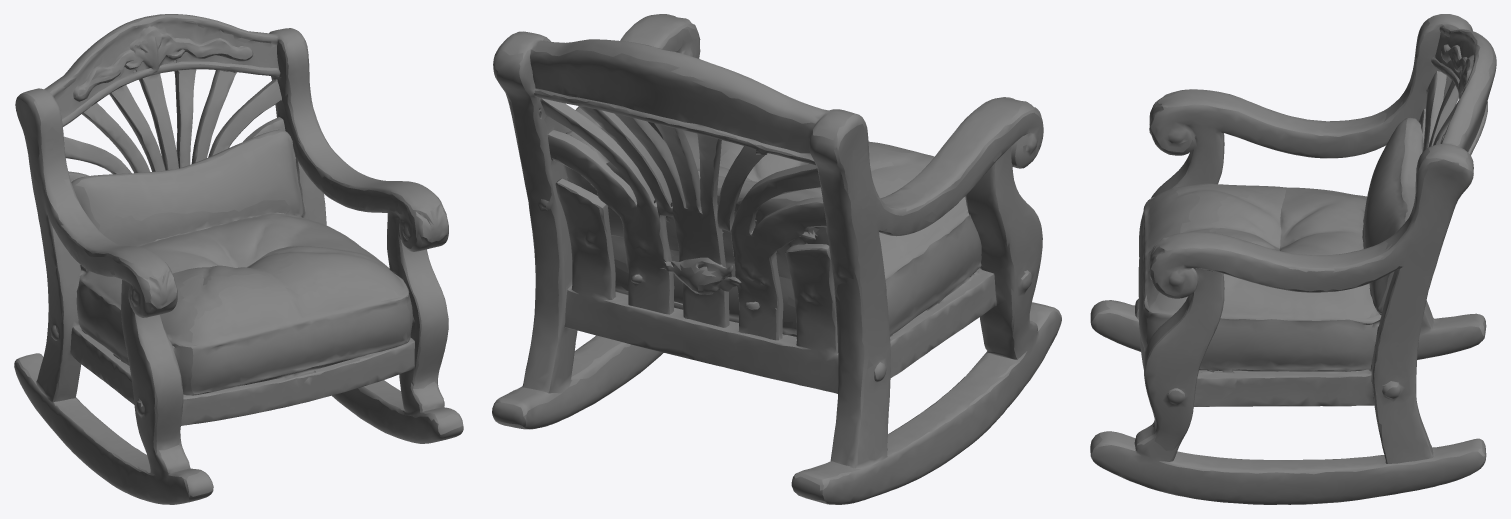
File: completion_rocker_2.glb
3 views of the same model, side by side, from view 1: azimuth 30°, elevation 25°; view 2: azimuth 150°, elevation 25°; view 3: azimuth 270°, elevation 25° (orthographic). The views are drawn at different scales.
Visible parts, largest first — view 1: geometry_0; view 2: geometry_0; view 3: geometry_0.
Part boxes in pixels (bbox=[...]): geometry_0: bbox=[14, 14, 463, 504]; geometry_0: bbox=[492, 14, 1061, 504]; geometry_0: bbox=[1090, 14, 1496, 504].
Bounding box in the file's own units: 0.9092 × 1 × 0.9573.
Materials: 1 (1 with a texture image).
